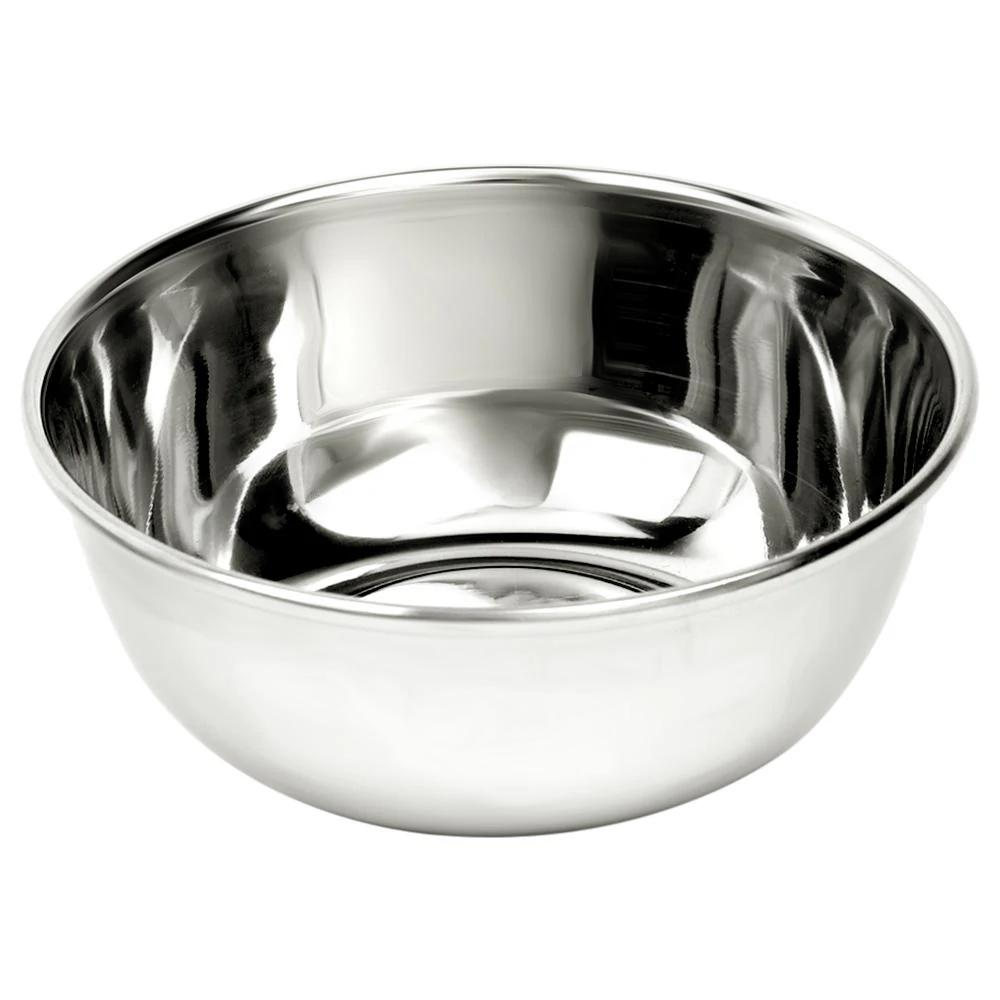bowl: (14, 163, 969, 835)
